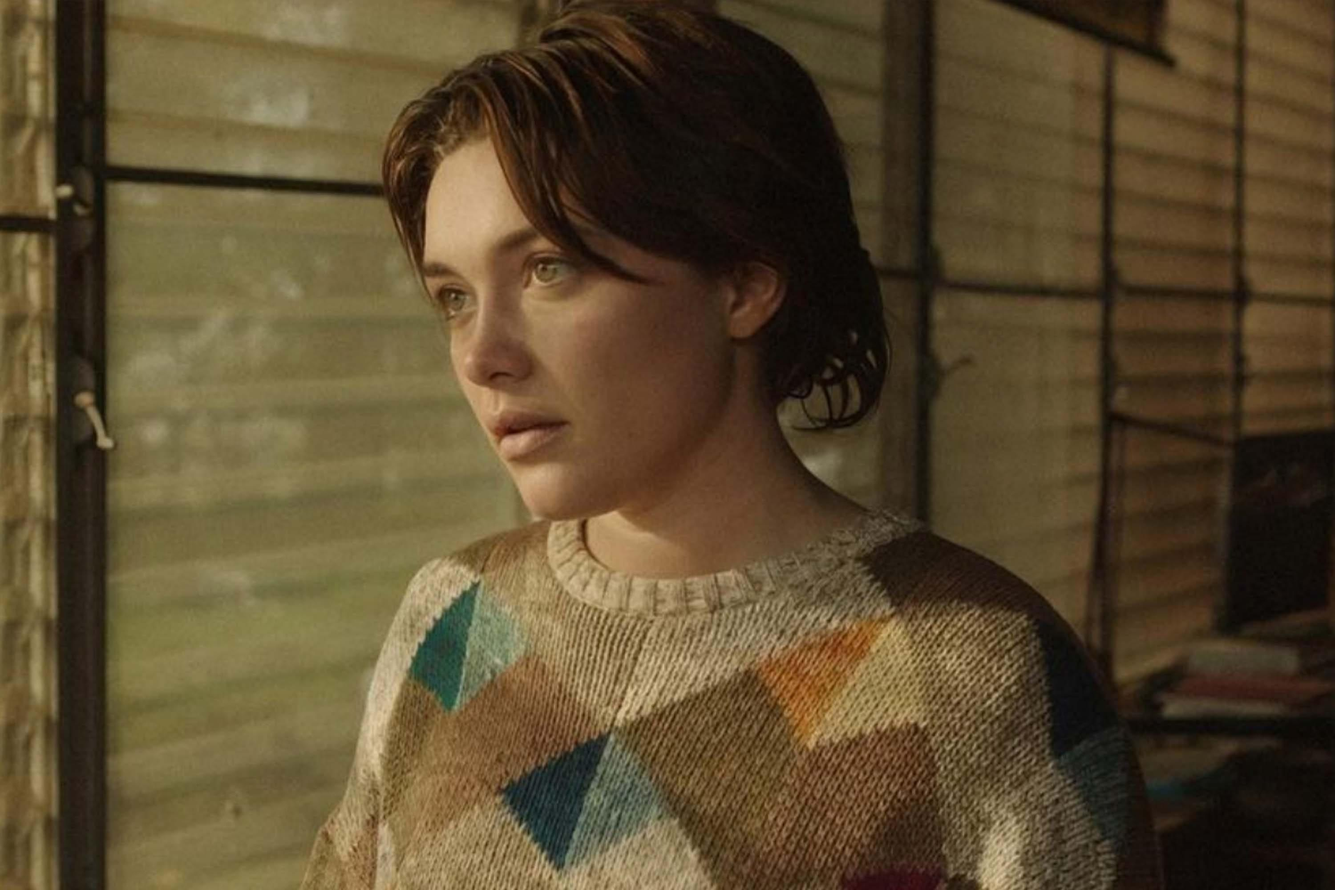Persons: (381, 0, 906, 549)
